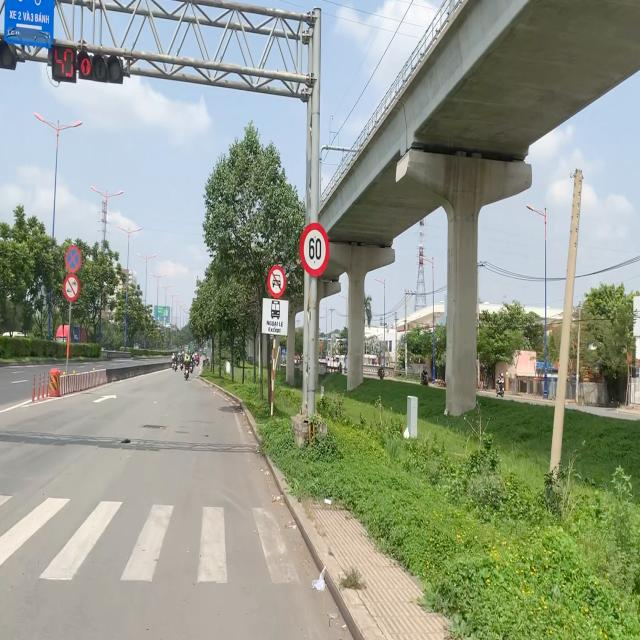Cam con lai: (267, 264, 286, 299)
Cam dung va do: (64, 244, 82, 273)
Toc do toi da: (299, 221, 330, 279)
